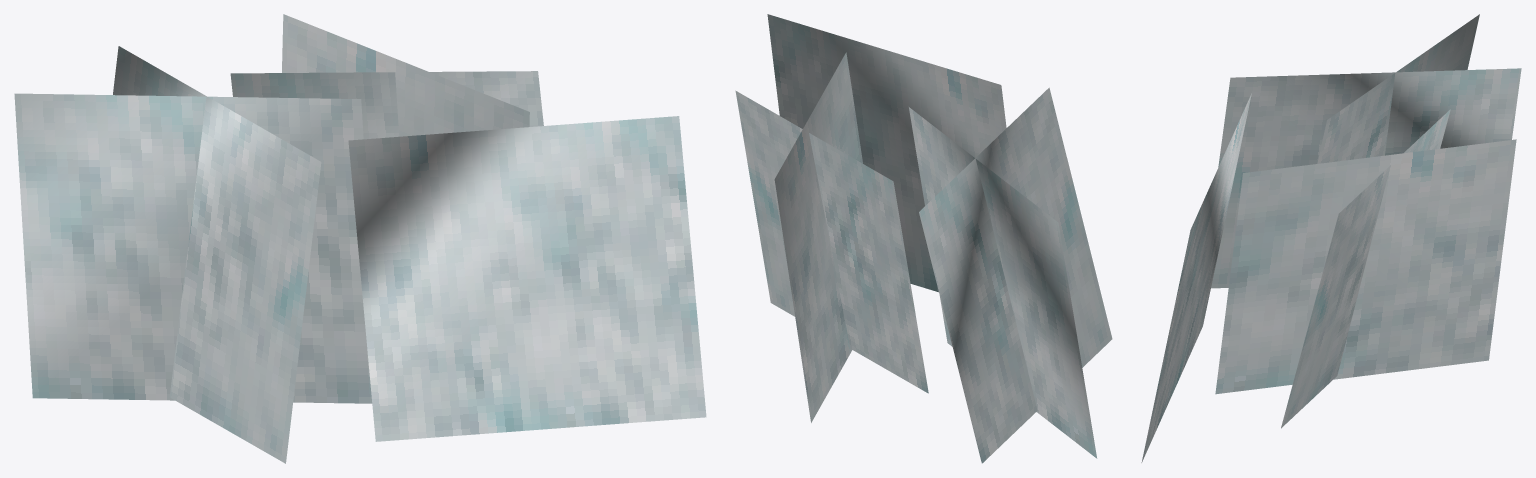
Rendered from bfg_cao1dark.fbx.
3 renders of one model, left to right at view 1: azimuth 30°, elevation 25°; view 2: azimuth 150°, elevation 25°; view 3: azimuth 270°, elevation 25°, orthographic. The views are drawn at different scales.
Visible parts, largest first — view 1: bfg_cao; view 2: bfg_cao; view 3: bfg_cao.
Part boxes in pixels (x1,y1,x2,y2): bfg_cao: [14, 14, 706, 463]; bfg_cao: [735, 14, 1112, 463]; bfg_cao: [1141, 14, 1521, 462].
Size of the model in its own units: 542 by 308 by 421.
